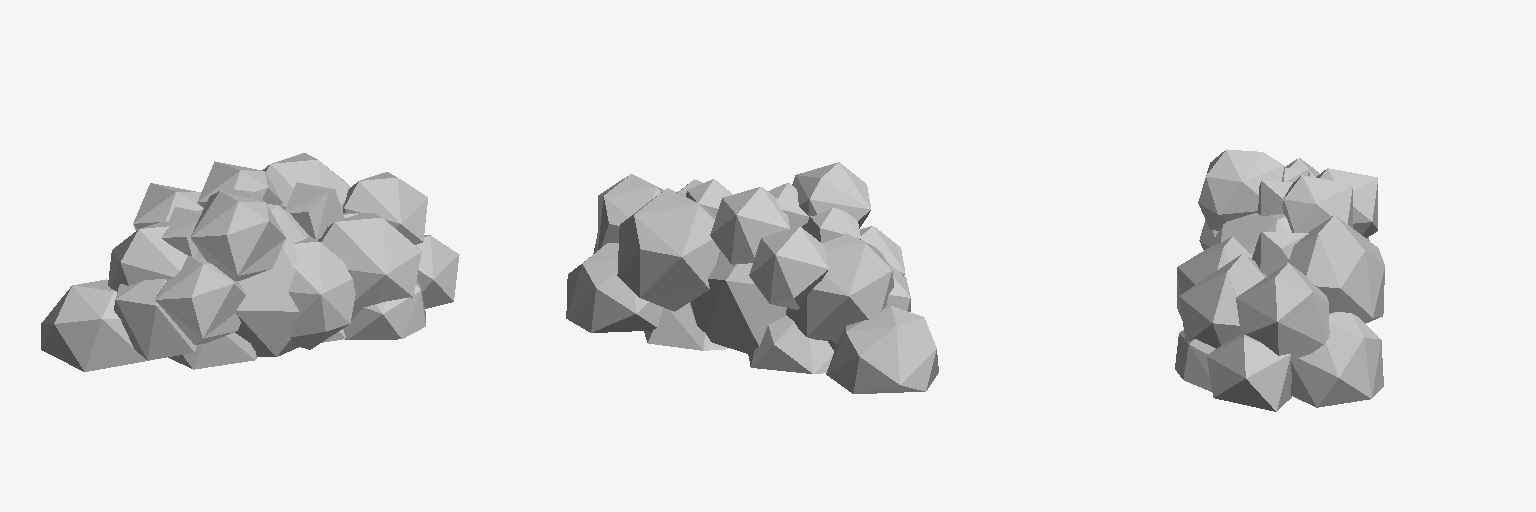
The model's file is Clouds_4.obj.
3 views of the same model, side by side, from view 1: azimuth 30°, elevation 25°; view 2: azimuth 150°, elevation 25°; view 3: azimuth 270°, elevation 25° (orthographic).
Parts seen in each view (by area): view 1: Clouds_4_Icosphere.011; view 2: Clouds_4_Icosphere.011; view 3: Clouds_4_Icosphere.011.
Boxes of the visible parts, box(x1,y1,x2,y2) form: Clouds_4_Icosphere.011: box(41, 153, 459, 371); Clouds_4_Icosphere.011: box(566, 162, 938, 393); Clouds_4_Icosphere.011: box(1175, 149, 1384, 411).
Size of the model in its own units: 38.33 by 16.69 by 18.73.